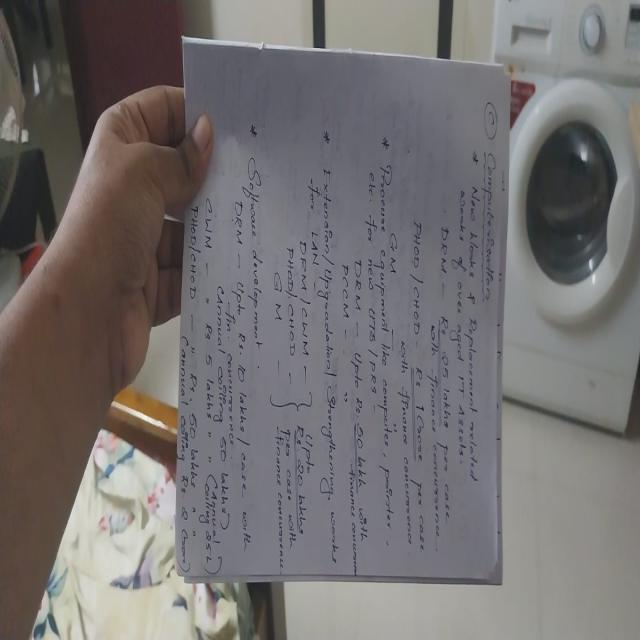Paper - Recyclable: (174, 34, 512, 586)
